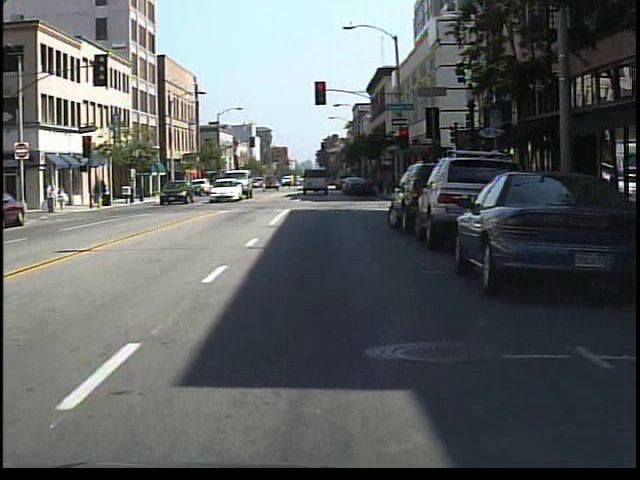person: (42, 180, 57, 217), (55, 184, 70, 213)
